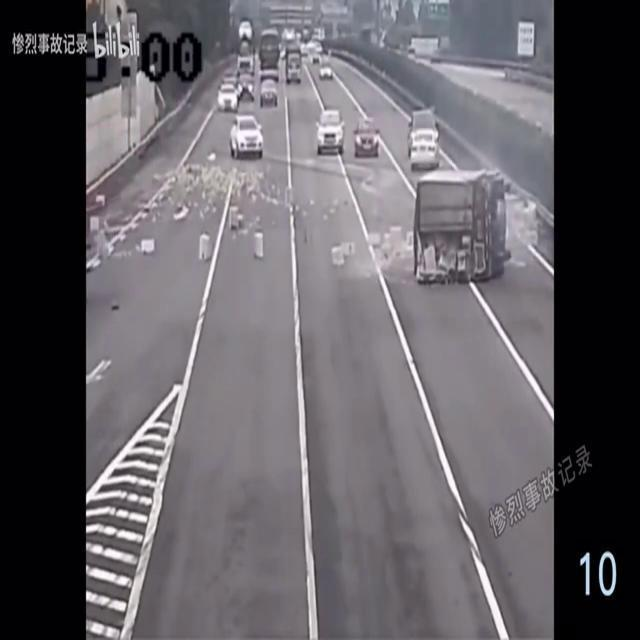accident: (416, 171, 508, 283), (407, 108, 439, 170)
non-accident: (217, 22, 256, 112), (260, 30, 280, 109)
